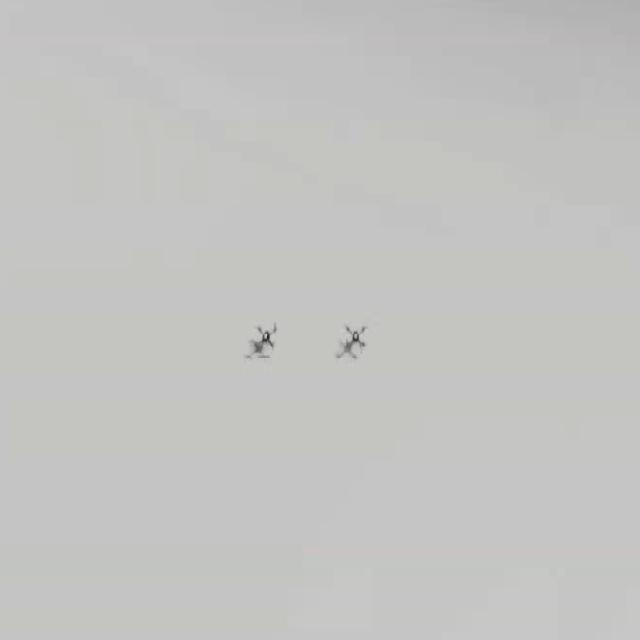drone: (251, 318, 287, 357), (338, 321, 375, 353)
